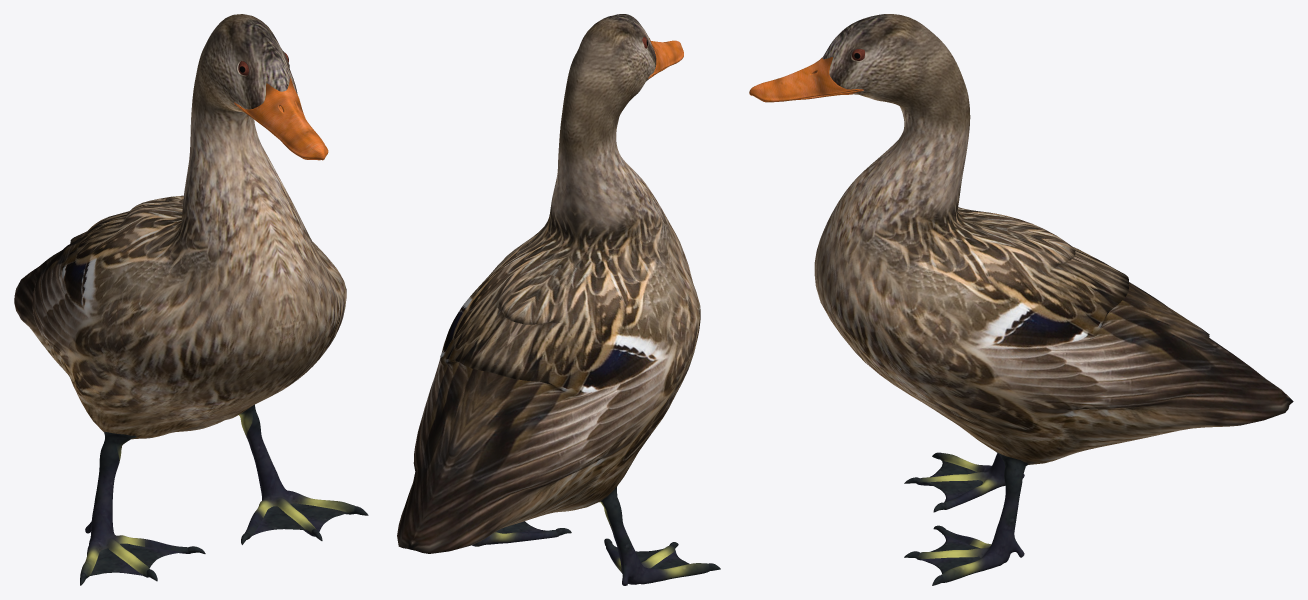
Rendered from O'rdak.fbx.
The picture shows the model from 3 angles, left to right: view 1: azimuth 30°, elevation 25°; view 2: azimuth 150°, elevation 25°; view 3: azimuth 270°, elevation 25°; orthographic projection. The views are drawn at different scales.
Parts seen in each view (by area): view 1: Duck.max; view 2: Duck.max; view 3: Duck.max.
Part boxes in pixels (x1=…): Duck.max: x1=14, y1=14, x2=368, y2=585; Duck.max: x1=397, y1=14, x2=720, y2=585; Duck.max: x1=749, y1=14, x2=1293, y2=585.
Bounding box in the file's own units: 5292 × 9680 × 9401.
Materials: 4 (4 with a texture image).
